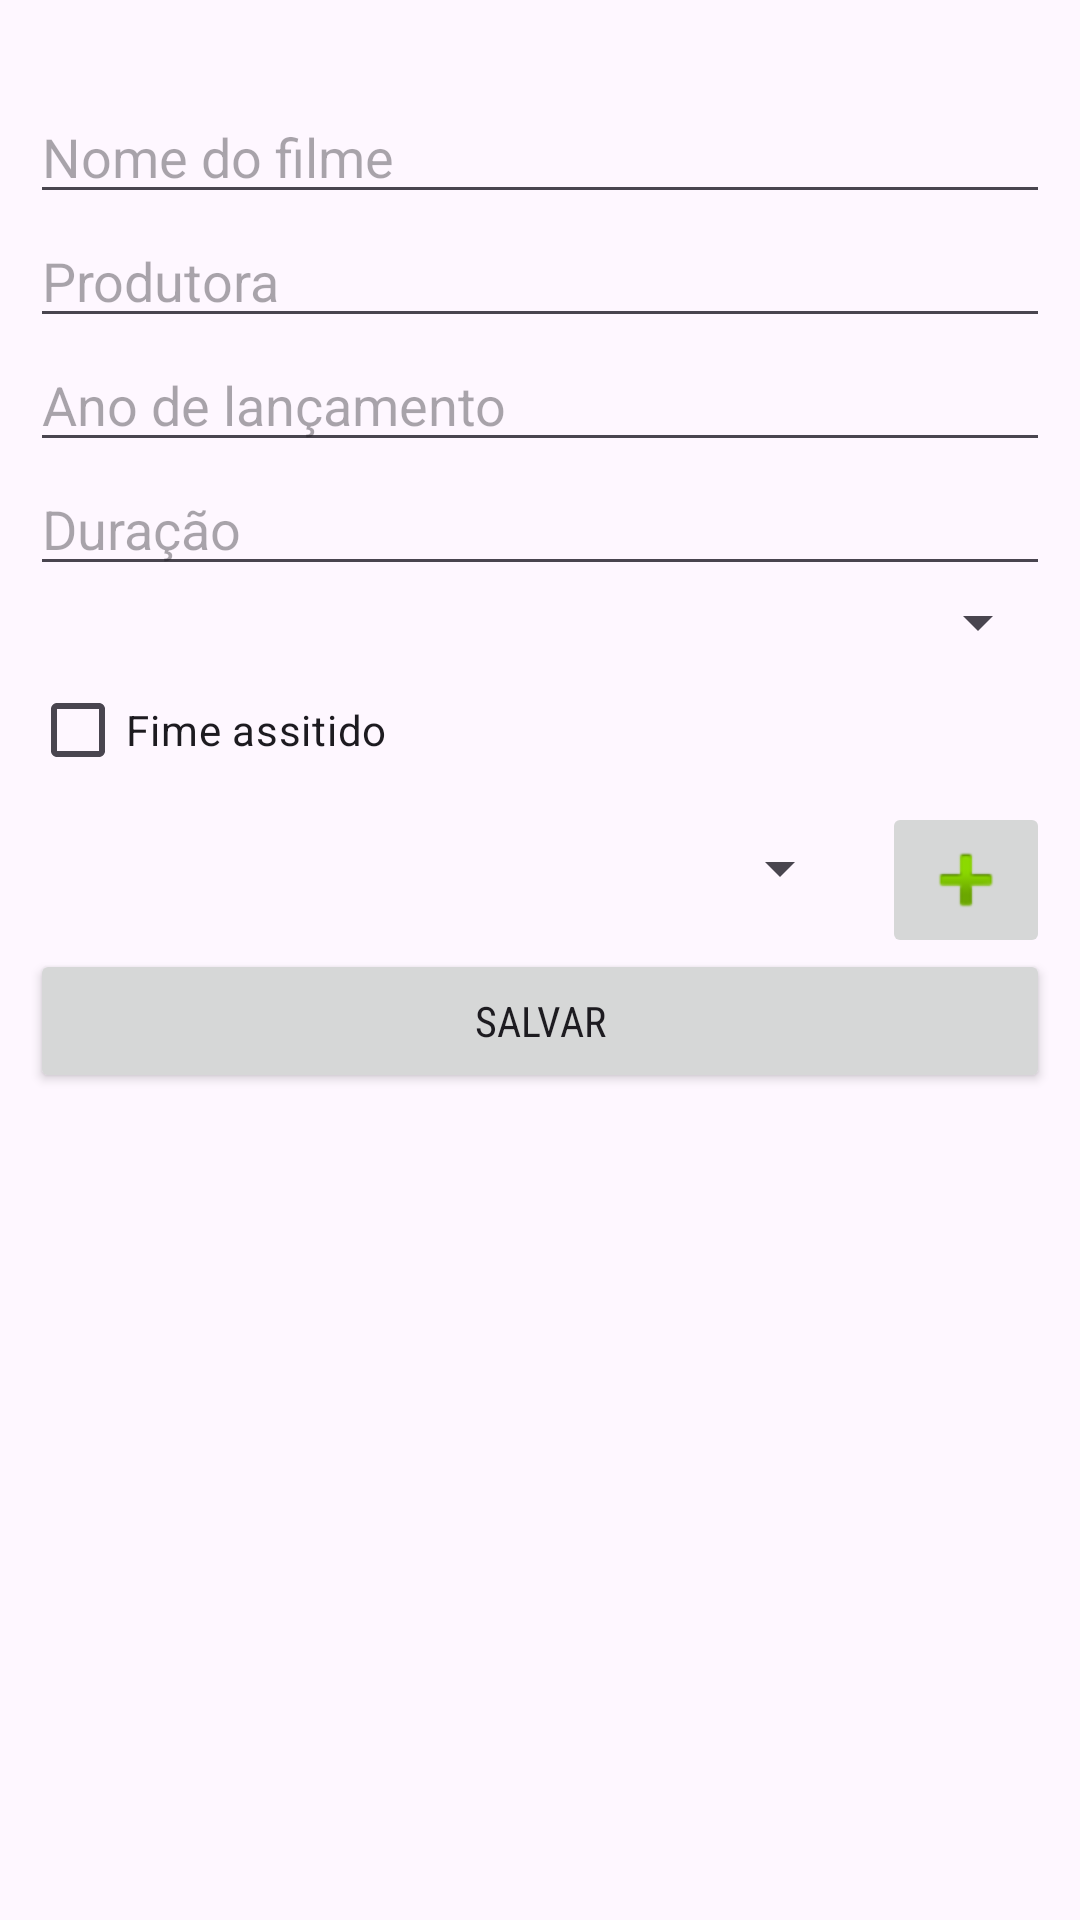

Icons on this 1080x1920 Android screen, each with its box as (x1, y1, x2, y2):
add: (894, 820, 1038, 940)
